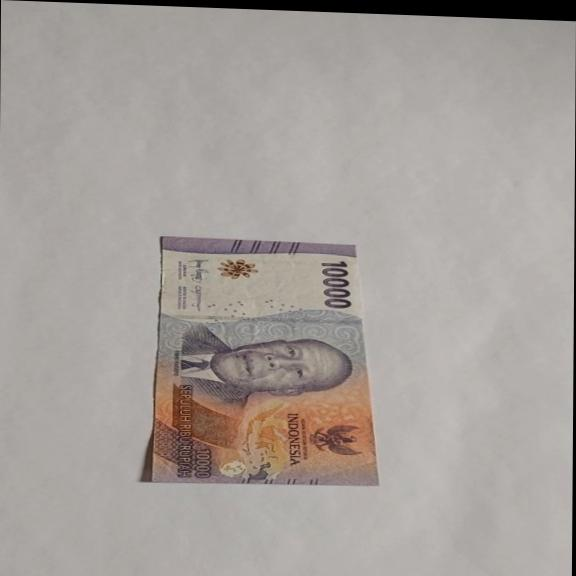Kertas: (145, 236, 381, 490), (319, 259, 354, 310)
